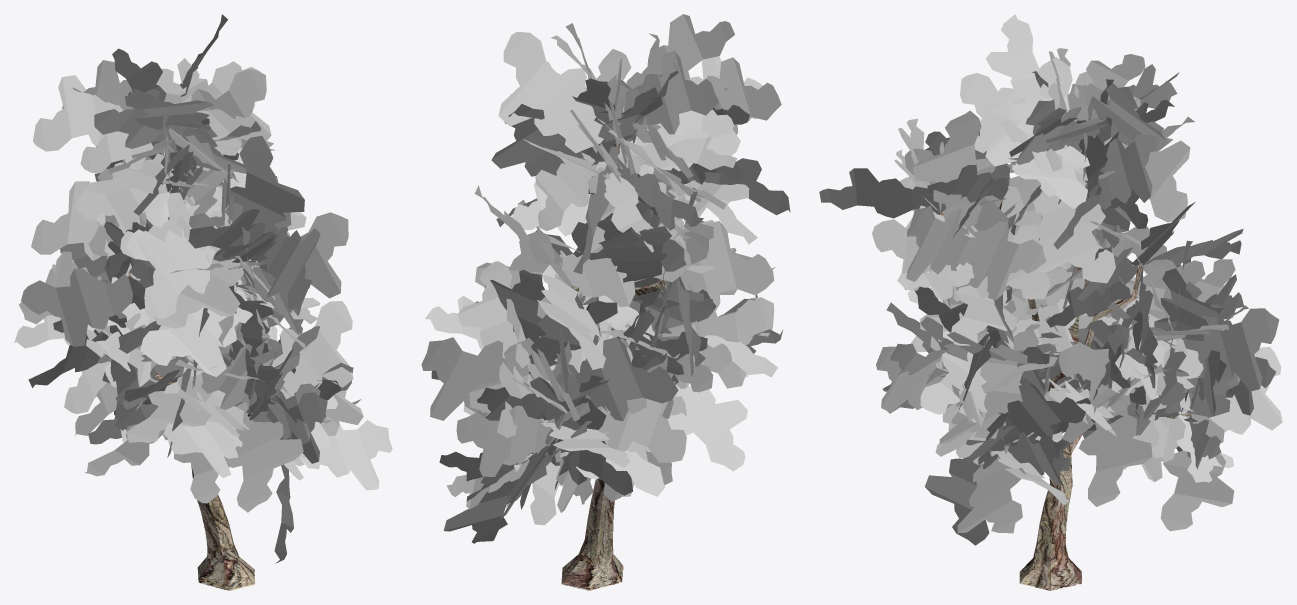
File: OakTree01.fbx
3 renders of one model, left to right at view 1: azimuth 30°, elevation 25°; view 2: azimuth 150°, elevation 25°; view 3: azimuth 270°, elevation 25°, orthographic. The views are drawn at different scales.
Parts seen in each view (by area): view 1: TreeTrunk|OakTreeBranchHD|Dupli|175, TreeTrunk|OakTreeBranchHD|Dupli|85, TreeTrunk|OakTreeBranchHD|Dupli|247, TreeTrunk|OakTreeBranchHD|Dupli|82, TreeTrunk|OakTreeBranchHD|Dupli|117, TreeTrunk|OakTreeBranchHD|Dupli|229, TreeTrunk, TreeTrunk|OakTreeBranchHD|Dupli|4, TreeTrunk|OakTreeBranchHD|Dupli|68, TreeTrunk|OakTreeBranchHD|Dupli|216, TreeTrunk|OakTreeBranchHD|Dupli|138, TreeTrunk|OakTreeBranchHD|Dupli|108 (+54 smaller); view 2: TreeTrunk|OakTreeBranchHD|Dupli|188, TreeTrunk|OakTreeBranchHD|Dupli|52, TreeTrunk, TreeTrunk|OakTreeBranchHD|Dupli|113, TreeTrunk|OakTreeBranchHD|Dupli|207, TreeTrunk|OakTreeBranchHD|Dupli|109, TreeTrunk|OakTreeBranchHD|Dupli|30, TreeTrunk|OakTreeBranchHD|Dupli|20, TreeTrunk|OakTreeBranchHD|Dupli|124, TreeTrunk|OakTreeBranchHD|Dupli|74, TreeTrunk|OakTreeBranchHD|Dupli|131, TreeTrunk|OakTreeBranchHD|Dupli|167 (+64 smaller); view 3: TreeTrunk, TreeTrunk|OakTreeBranchHD|Dupli|130, TreeTrunk|OakTreeBranchHD|Dupli|113, TreeTrunk|OakTreeBranchHD|Dupli|67, TreeTrunk|OakTreeBranchHD|Dupli|229, TreeTrunk|OakTreeBranchHD|Dupli|127, TreeTrunk|OakTreeBranchHD|Dupli|184, TreeTrunk|OakTreeBranchHD|Dupli|216, TreeTrunk|OakTreeBranchHD|Dupli|68, TreeTrunk|OakTreeBranchHD|Dupli|108, TreeTrunk|OakTreeBranchHD|Dupli|131, TreeTrunk|OakTreeBranchHD|Dupli|74 (+72 smaller).
Boxes of the visible parts, x1,y1,x2,y2 form: TreeTrunk|OakTreeBranchHD|Dupli|175: (21,268,132,346); TreeTrunk|OakTreeBranchHD|Dupli|85: (138,226,215,319); TreeTrunk|OakTreeBranchHD|Dupli|247: (224,402,303,512); TreeTrunk|OakTreeBranchHD|Dupli|82: (272,301,353,399); TreeTrunk|OakTreeBranchHD|Dupli|117: (140,288,252,377); TreeTrunk|OakTreeBranchHD|Dupli|229: (230,136,304,234); TreeTrunk: (128,191,255,590); TreeTrunk|OakTreeBranchHD|Dupli|4: (33,75,122,151); TreeTrunk|OakTreeBranchHD|Dupli|68: (300,420,392,490); TreeTrunk|OakTreeBranchHD|Dupli|216: (256,227,320,308); TreeTrunk|OakTreeBranchHD|Dupli|138: (156,250,243,328); TreeTrunk|OakTreeBranchHD|Dupli|108: (240,212,348,298); TreeTrunk|OakTreeBranchHD|Dupli|188: (498,31,603,153); TreeTrunk|OakTreeBranchHD|Dupli|52: (556,337,678,421); TreeTrunk: (526,142,667,590); TreeTrunk|OakTreeBranchHD|Dupli|113: (421,337,534,420); TreeTrunk|OakTreeBranchHD|Dupli|207: (668,384,747,471); TreeTrunk|OakTreeBranchHD|Dupli|109: (681,221,774,314); TreeTrunk|OakTreeBranchHD|Dupli|30: (456,405,557,476); TreeTrunk|OakTreeBranchHD|Dupli|20: (624,51,718,134); TreeTrunk|OakTreeBranchHD|Dupli|124: (596,399,686,462); TreeTrunk|OakTreeBranchHD|Dupli|74: (626,14,734,88); TreeTrunk|OakTreeBranchHD|Dupli|131: (491,104,583,176); TreeTrunk|OakTreeBranchHD|Dupli|167: (558,238,691,306); TreeTrunk: (940,200,1193,590); TreeTrunk|OakTreeBranchHD|Dupli|130: (1033,192,1115,283); TreeTrunk|OakTreeBranchHD|Dupli|113: (1183,308,1279,391); TreeTrunk|OakTreeBranchHD|Dupli|67: (1078,394,1152,506); TreeTrunk|OakTreeBranchHD|Dupli|229: (912,110,995,226); TreeTrunk|OakTreeBranchHD|Dupli|127: (957,221,1046,300); TreeTrunk|OakTreeBranchHD|Dupli|184: (1160,412,1234,531); TreeTrunk|OakTreeBranchHD|Dupli|216: (819,168,940,218); TreeTrunk|OakTreeBranchHD|Dupli|68: (957,444,1025,533); TreeTrunk|OakTreeBranchHD|Dupli|108: (906,205,969,281); TreeTrunk|OakTreeBranchHD|Dupli|131: (1098,121,1163,209); TreeTrunk|OakTreeBranchHD|Dupli|74: (985,14,1051,114).
Size of the model in its own units: 1075 by 1813 by 1488.
